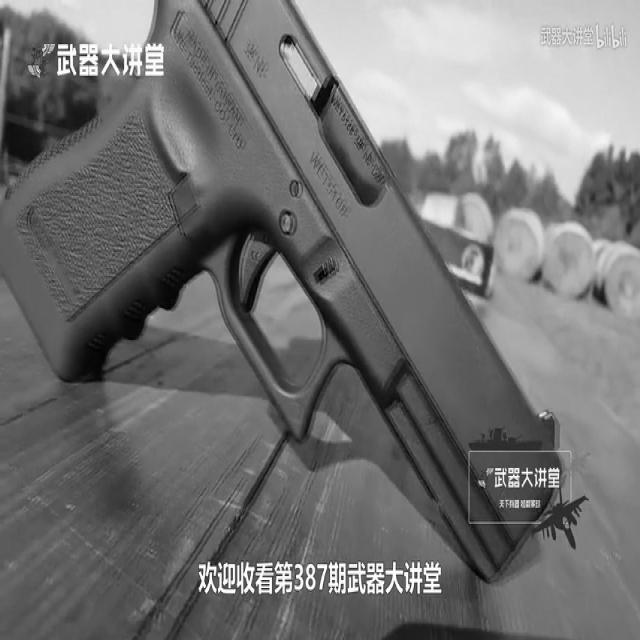Hand-Gun: (0, 0, 596, 617)
